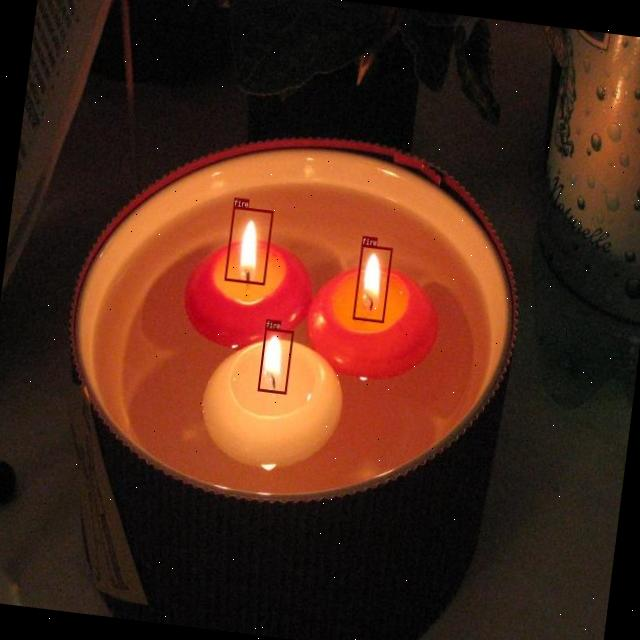fire: (223, 206, 273, 284), (352, 244, 392, 322), (257, 328, 293, 393)
